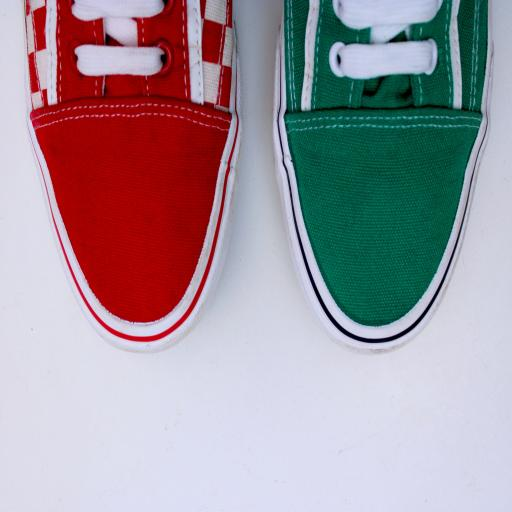shoe: (274, 0, 492, 352), (26, 0, 241, 352)
